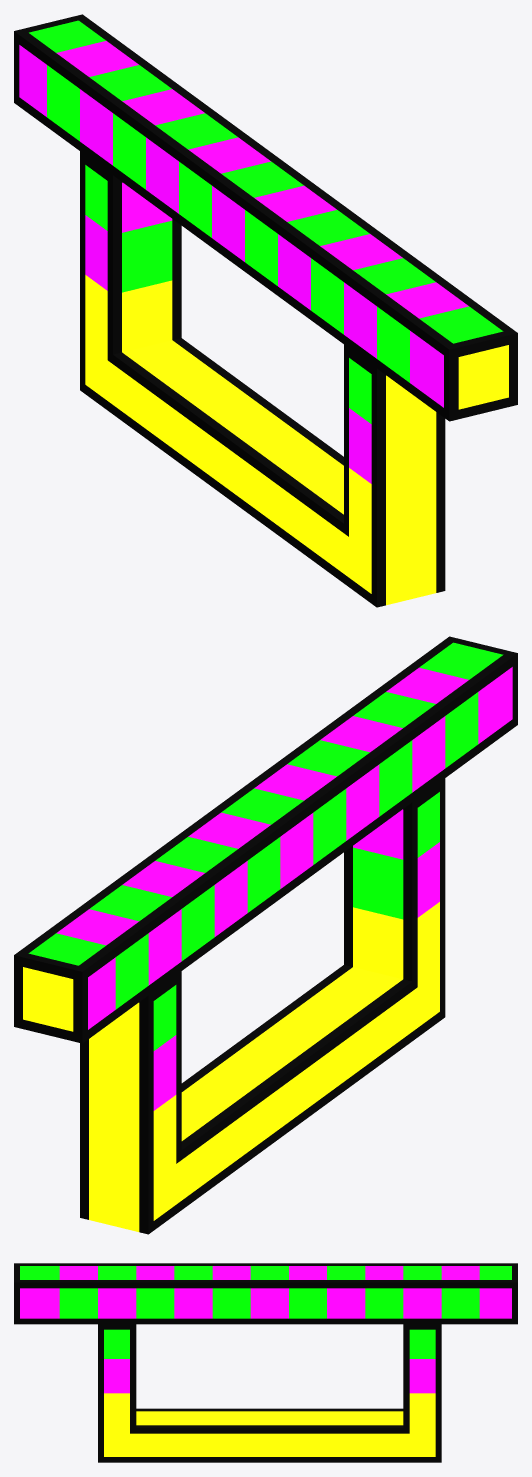
The model's file is SwingPoint.fbx.
3 renders of one model, top to bottom at view 1: azimuth 30°, elevation 25°; view 2: azimuth 150°, elevation 25°; view 3: azimuth 270°, elevation 25°, orthographic. The views are drawn at different scales.
Parts seen in each view (by area): view 1: Cube; view 2: Cube; view 3: Cube.
Boxes of the visible parts, x1,y1,x2,y2 form: Cube: (14,14,517,607); Cube: (14,636,517,1234); Cube: (14,1263,517,1462).
Size of the model in its own units: 150 by 650 by 1650.
